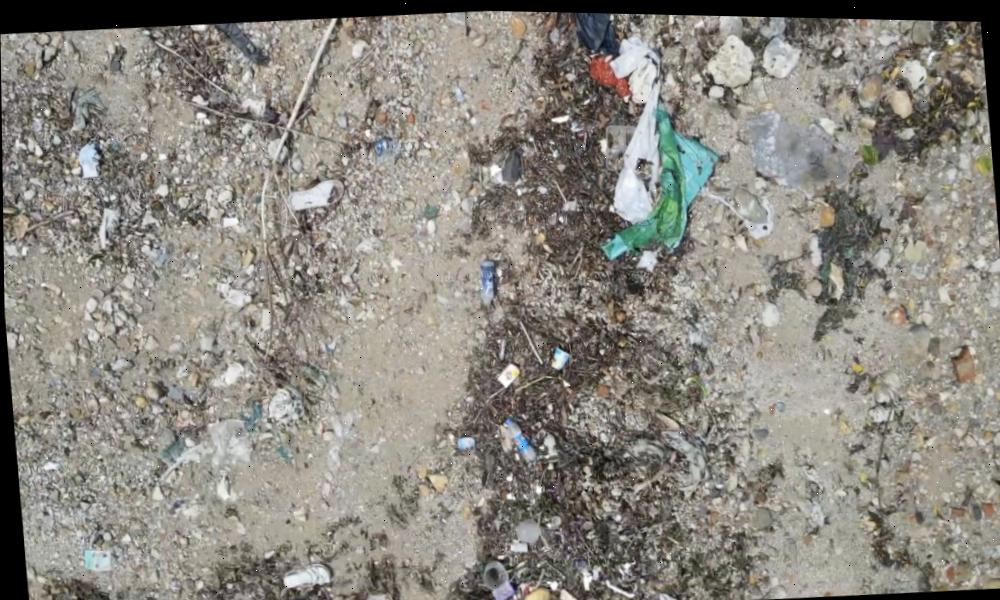plastic bag: (590, 104, 725, 260), (599, 25, 673, 223)
plastic bottle: (506, 414, 531, 461), (477, 256, 496, 309)
